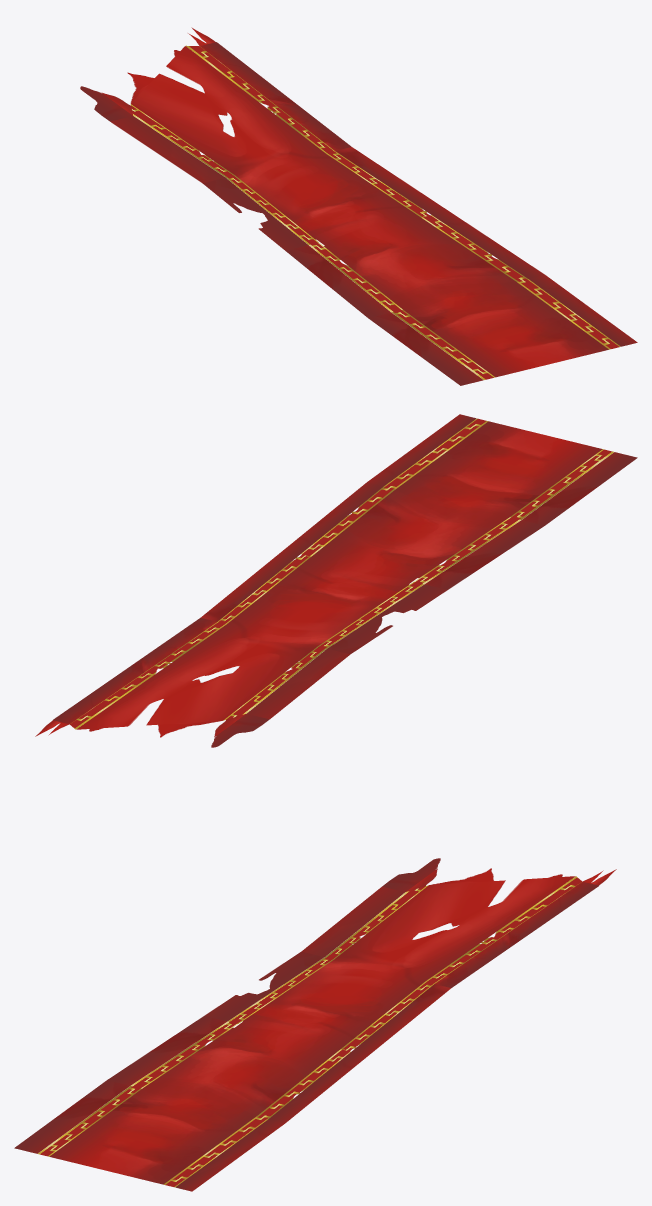
Rendered from mesh_carpet_red.fbx.
3 views of the same model, one above another, from view 1: azimuth 30°, elevation 25°; view 2: azimuth 150°, elevation 25°; view 3: azimuth 330°, elevation 25° (orthographic).
Parts seen in each view (by area): view 1: mesh_carpet_red; view 2: mesh_carpet_red; view 3: mesh_carpet_red.
Boxes of the visible parts, x1,y1,x2,y2 form: mesh_carpet_red: (80, 27, 637, 385); mesh_carpet_red: (35, 414, 637, 747); mesh_carpet_red: (14, 858, 616, 1191).
Size of the model in its own units: 74.14 by 327 by 0.3781.
